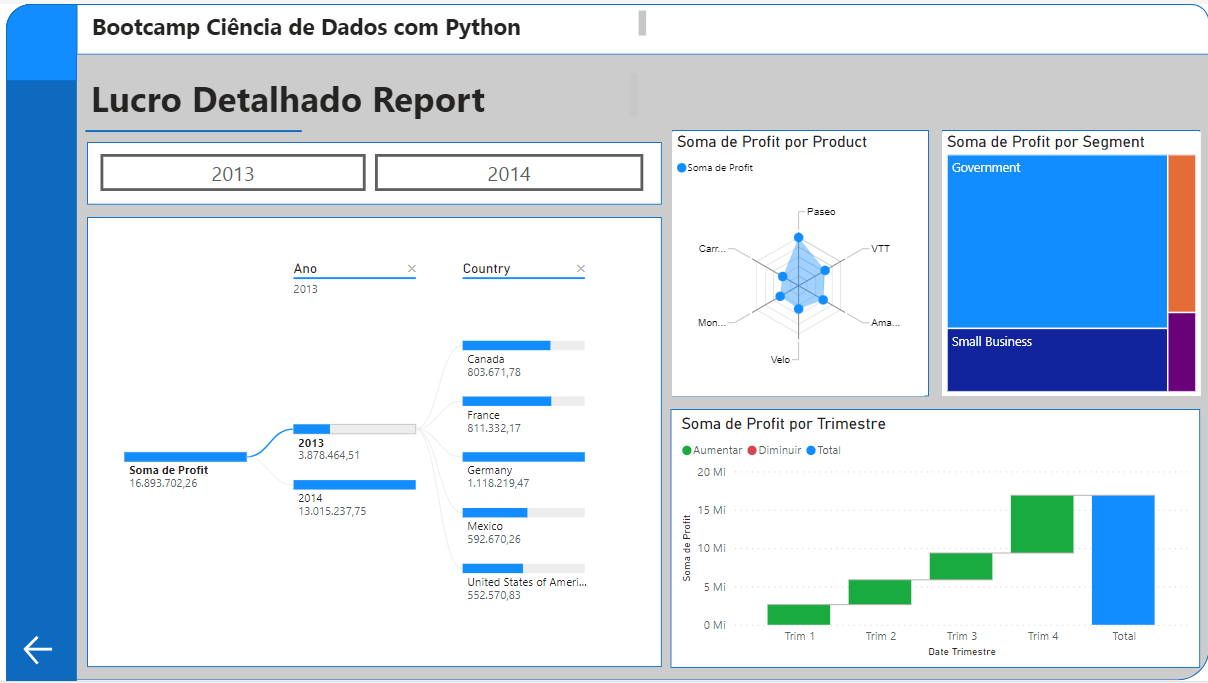

Layout of this report page (visuals, bound fields, positions):
{"tool":"powerbi","page":{"name":"Página 2","canvas":[1280,720],"ordinal":1},"visuals":[{"type":"shape","box":[0,0,1280,719.3],"z":0},{"type":"shape","box":[0,0,75.6,719.7],"z":1000},{"type":"shape","box":[0,0,75.6,82.2],"z":2000},{"type":"shape","box":[75.6,0,1204.4,54.2],"z":3000},{"type":"textbox","box":[85.4,1.6,599.7,39.4],"z":4000},{"type":"shape","box":[84.1,116.5,229.8,37.2],"z":5000},{"type":"textbox","box":[84.6,69.3,592.5,57.7],"z":6000},{"type":"shape","box":[85.8,226.5,611.6,478.9],"z":7000},{"type":"shape","box":[708.7,134.3,273.4,283.1],"z":8000},{"type":"shape","box":[707.1,430.4,563.1,275.1],"z":9000},{"type":"shape","box":[85.8,147.2,611.6,66.3],"z":12001},{"type":"shape","box":[995.7,134.7,274.4,282.6],"z":12002},{"type":"treemap","fields":{"Values":["Sum(financials.Profit)"],"Group":["financials.Segment"]},"box":[995.1,135.9,275.1,281.5],"z":12004},{"type":"decompositionTreeVisual","fields":{"Analyze":["Sum(financials.Profit)"],"ExplainBy":["financials.Date.Variation.Hierarquia de datas.Ano","financials.Country"]},"box":[95.5,255.6,590.6,430.4],"z":12005},{"type":"waterfallChart","fields":{"Y":["Sum(financials.Profit)"],"Category":["financials.Date.Variation.Hierarquia de datas.Trimestre"]},"box":[713.5,435.2,550.1,263.7],"z":12006},{"type":"RadarChart1446119667547","fields":{"Y":["Sum(financials.Profit)"],"Category":["financials.Product"]},"box":[708.7,135.9,268.6,281.5],"z":12007},{"type":"actionButton","box":[14.6,666.6,50.2,40.4],"z":12008},{"type":"actionButton","box":[99.7,159.9,282,39.6],"z":12009},{"type":"actionButton","box":[392.1,159.9,285.5,39.6],"z":12010}]}

Visuals, with their boxes in screenshot pixels (x1, y1, x2, y2), scaled from the page's 1280x720 canvas onto the 1208x683 screenshot:
shape: Rect(0, 0, 1207, 682)
shape: Rect(0, 0, 71, 682)
shape: Rect(0, 0, 71, 78)
shape: Rect(71, 0, 1207, 51)
textbox: Rect(81, 2, 647, 39)
shape: Rect(79, 111, 296, 146)
textbox: Rect(80, 66, 639, 120)
shape: Rect(81, 215, 658, 669)
shape: Rect(669, 127, 927, 396)
shape: Rect(667, 408, 1199, 669)
shape: Rect(81, 140, 658, 203)
shape: Rect(940, 128, 1199, 396)
treemap - Sum(financials.Profit) x financials.Segment: Rect(939, 129, 1199, 396)
decompositionTreeVisual - Sum(financials.Profit) x financials.Date.Variation.Hierarquia de datas.Ano: Rect(90, 242, 648, 651)
waterfallChart - Sum(financials.Profit) x financials.Date.Variation.Hierarquia de datas.Trimestre: Rect(673, 413, 1193, 663)
RadarChart1446119667547 - Sum(financials.Profit) x financials.Product: Rect(669, 129, 922, 396)
actionButton: Rect(14, 632, 61, 671)
actionButton: Rect(94, 152, 360, 189)
actionButton: Rect(370, 152, 639, 189)
